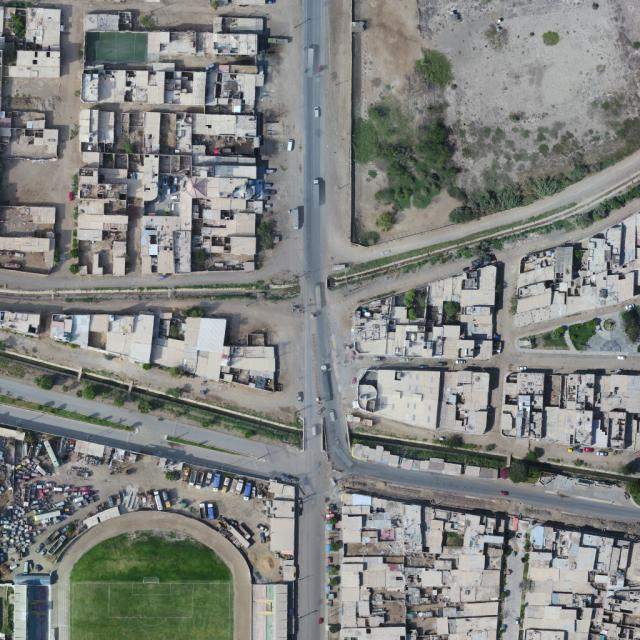building: (77, 15, 264, 277), (352, 264, 496, 358), (355, 360, 492, 435), (0, 206, 55, 273), (218, 342, 277, 391), (104, 311, 154, 362), (252, 584, 288, 639), (150, 336, 186, 368), (196, 316, 226, 353), (182, 316, 201, 373), (269, 517, 295, 554), (69, 314, 92, 348), (50, 315, 72, 341), (268, 482, 295, 500), (270, 500, 295, 518), (195, 351, 210, 377), (195, 352, 210, 375), (89, 314, 108, 332)
dryland: (0, 329, 302, 425), (338, 470, 640, 539), (82, 444, 276, 545), (0, 295, 303, 357), (332, 157, 464, 266), (0, 60, 79, 205), (209, 299, 304, 412), (537, 471, 633, 508), (278, 237, 311, 276), (23, 543, 57, 573), (250, 550, 279, 583), (64, 504, 99, 524), (47, 387, 81, 405), (0, 405, 21, 424)
greenland: (336, 78, 475, 226), (445, 159, 594, 226), (410, 42, 461, 93), (343, 217, 382, 254), (372, 207, 400, 234), (542, 31, 560, 47)
metalled_road: (338, 451, 640, 524)
unmetalled_road: (301, 0, 354, 297), (324, 251, 475, 318), (595, 198, 640, 231), (495, 238, 533, 275), (564, 174, 604, 206), (525, 234, 554, 251), (568, 229, 599, 239)
